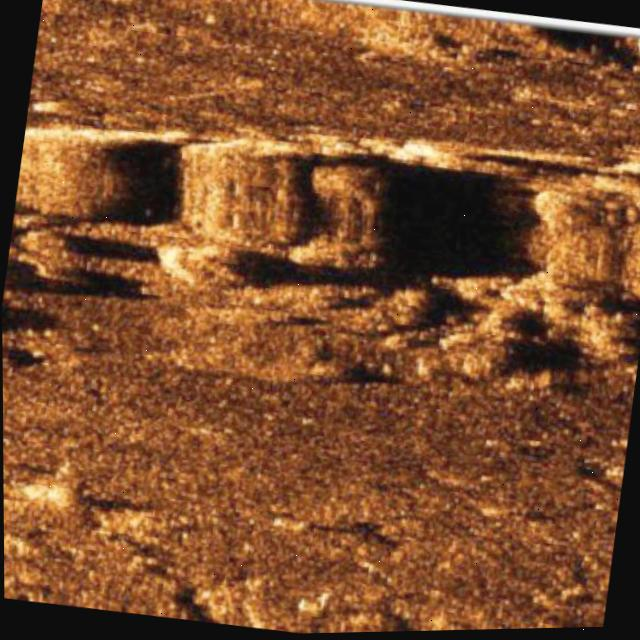bedrock group: (0, 64, 640, 432)
